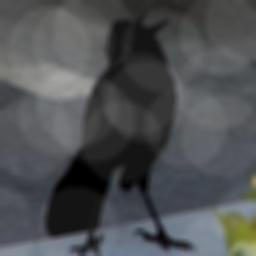Crow: (46, 9, 198, 256)
